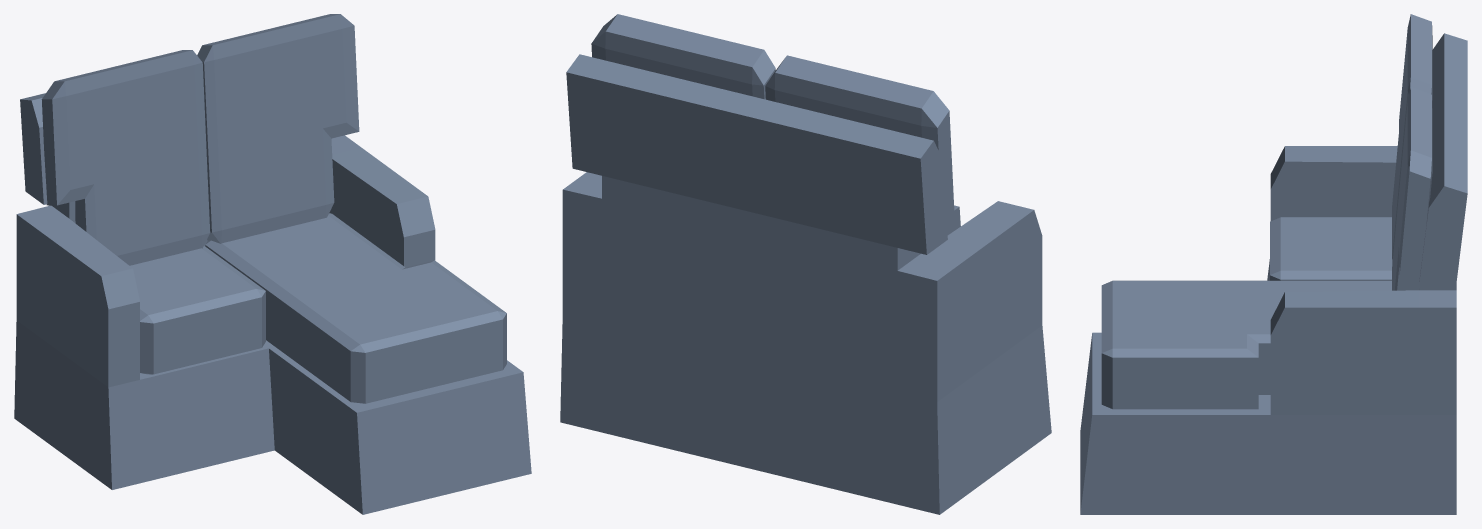
The model's file is qt-sofa-long.glb.
3 renders of one model, left to right at view 1: azimuth 30°, elevation 25°; view 2: azimuth 150°, elevation 25°; view 3: azimuth 270°, elevation 25°, orthographic. The views are drawn at different scales.
Visible parts, largest first — view 1: SofaLong_Cube.007; view 2: SofaLong_Cube.007; view 3: SofaLong_Cube.007.
Part boxes in pixels (x1,y1,x2,y2): SofaLong_Cube.007: (14,14,531,514); SofaLong_Cube.007: (560,14,1051,514); SofaLong_Cube.007: (1080,14,1467,514).
Bounding box in the file's own units: 1 × 1 × 1.
